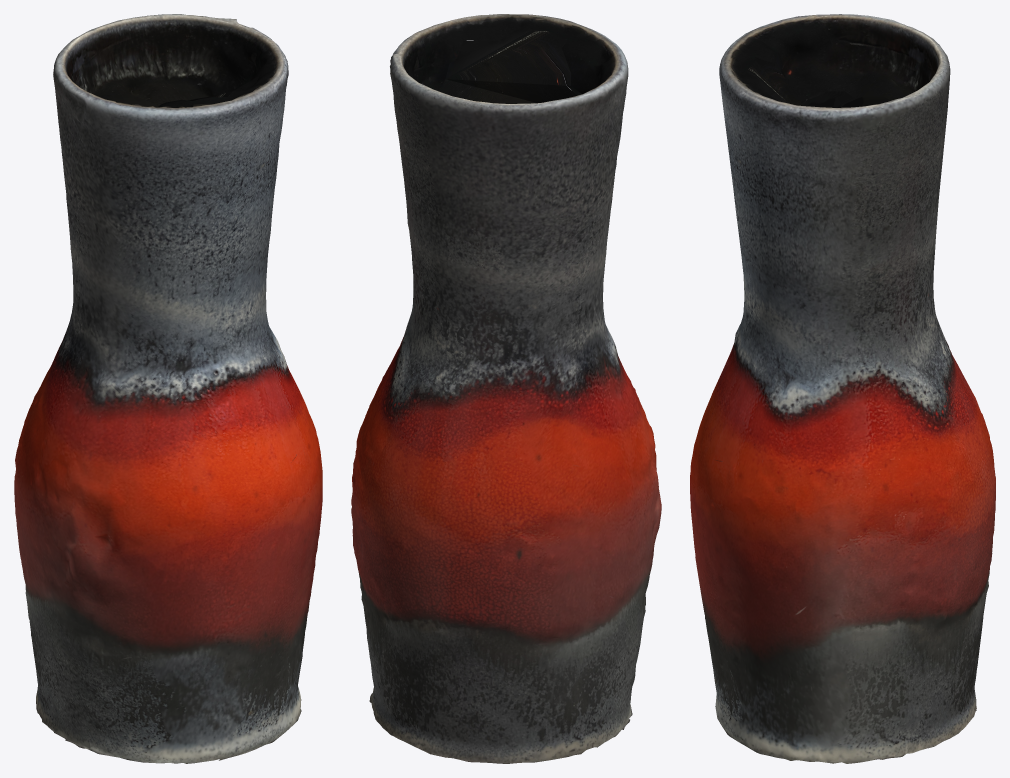
The model's file is Vase2.glb.
3 views of the same model, side by side, from view 1: azimuth 30°, elevation 25°; view 2: azimuth 150°, elevation 25°; view 3: azimuth 270°, elevation 25° (orthographic).
Parts seen in each view (by area): view 1: 3DModel_LowPoly; view 2: 3DModel_LowPoly; view 3: 3DModel_LowPoly.
Part boxes in pixels (x1,y1,x2,y2): 3DModel_LowPoly: [14, 14, 322, 763]; 3DModel_LowPoly: [351, 14, 661, 763]; 3DModel_LowPoly: [690, 14, 995, 763].
Size of the model in its own units: 0.6671 by 1.56 by 0.6645.
Materials: 1 (1 with a texture image).
